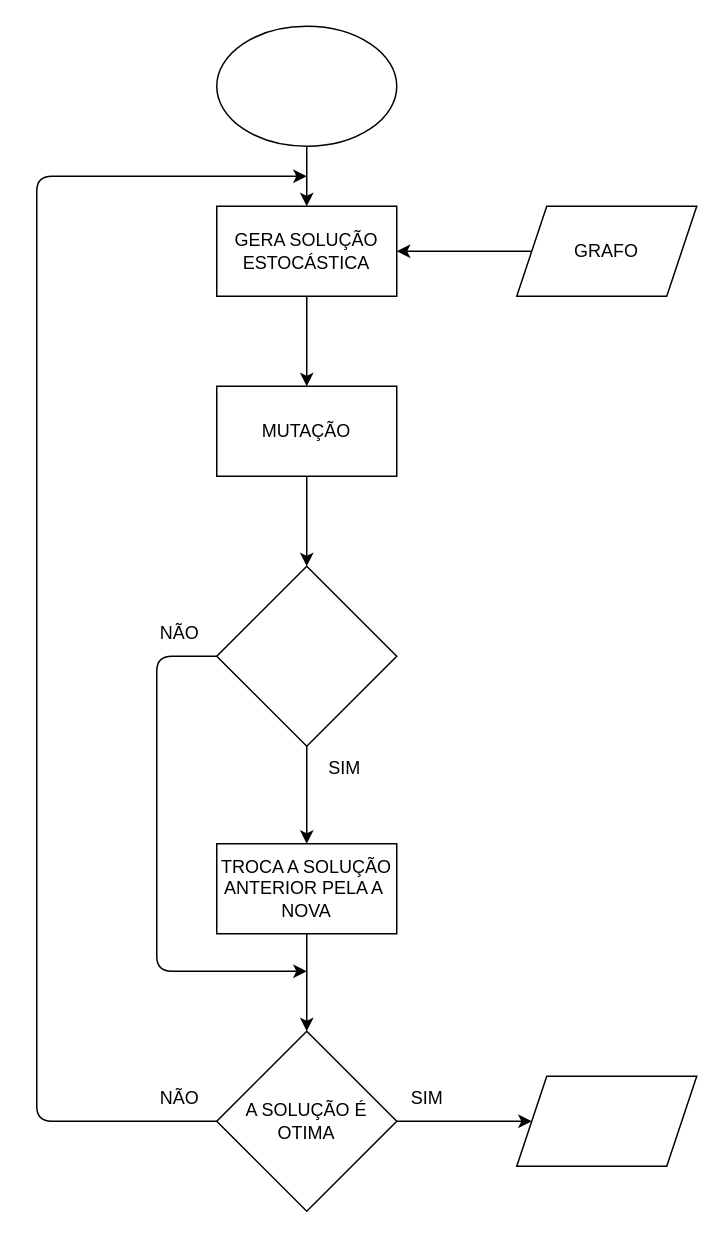
This 723x1238 diagram has some shape labels left out. Each missing label, with the centre of its shape:
A SOLUÇÃO É MELHOR QUE A ANTERIOR: (x=306, y=655)
INÍCIO: (x=306, y=85)
SOLUÇÃO: (x=606, y=1120)
